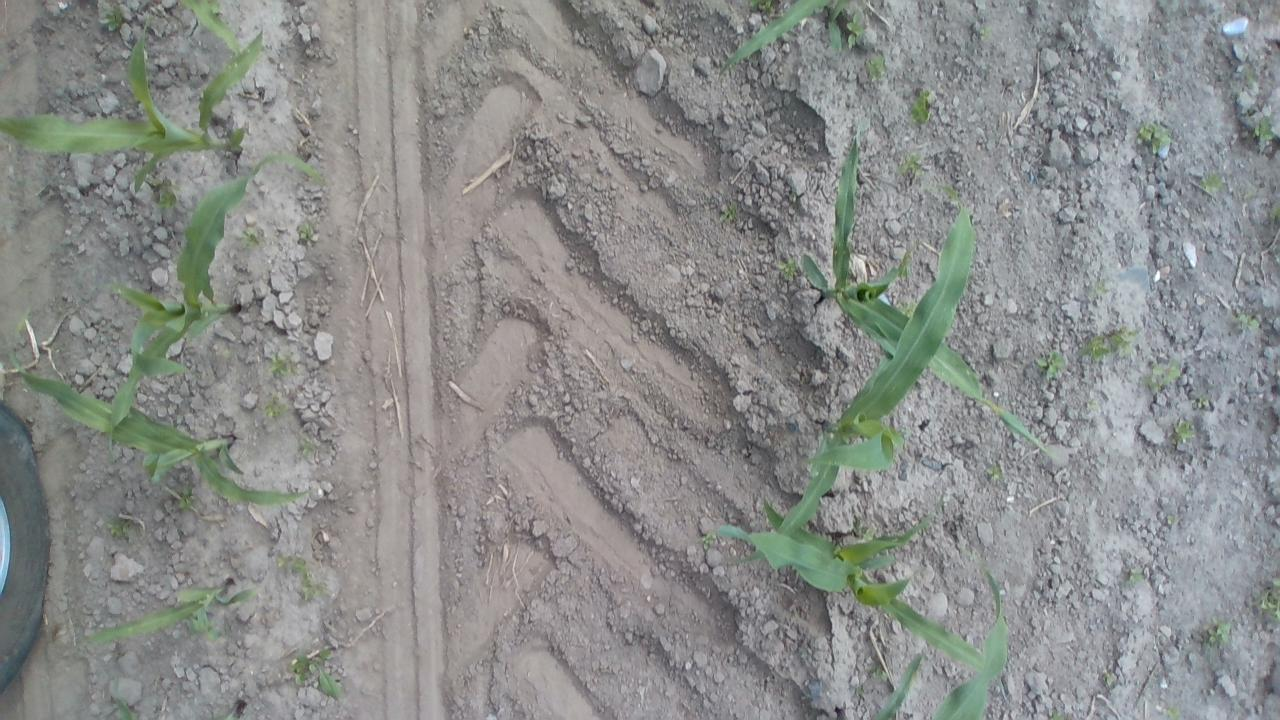Maize: (794, 120, 1062, 467), (751, 197, 990, 565), (101, 144, 332, 448), (700, 496, 1005, 682), (3, 336, 320, 510), (0, 22, 280, 190), (860, 557, 1014, 720), (66, 573, 262, 658), (718, 0, 856, 81), (180, 0, 246, 59)
Weeds: (288, 641, 338, 698), (280, 550, 330, 604), (1082, 323, 1136, 362), (1130, 118, 1180, 156), (266, 348, 310, 388), (1138, 358, 1184, 395), (908, 82, 943, 127), (102, 510, 145, 542), (298, 436, 339, 468), (1033, 350, 1074, 380), (170, 480, 199, 520), (1198, 169, 1236, 199), (95, 1, 128, 35), (894, 150, 926, 185), (1246, 112, 1277, 148), (1256, 580, 1280, 624), (109, 693, 147, 720), (264, 392, 298, 422), (1201, 618, 1234, 648), (152, 178, 182, 210), (862, 50, 888, 86), (1166, 419, 1198, 444), (1119, 562, 1149, 588), (294, 220, 320, 250), (848, 518, 879, 542), (777, 256, 800, 286), (693, 528, 717, 556), (240, 224, 264, 252), (844, 12, 868, 40), (714, 196, 740, 221), (1100, 672, 1132, 692), (1236, 308, 1260, 334), (1086, 280, 1116, 300), (1160, 509, 1184, 532), (867, 662, 890, 686), (1192, 392, 1220, 410), (984, 461, 1006, 483), (1240, 72, 1262, 94), (1086, 400, 1112, 418), (976, 23, 994, 47), (1044, 706, 1073, 720), (1264, 197, 1280, 222), (1164, 703, 1185, 720)
